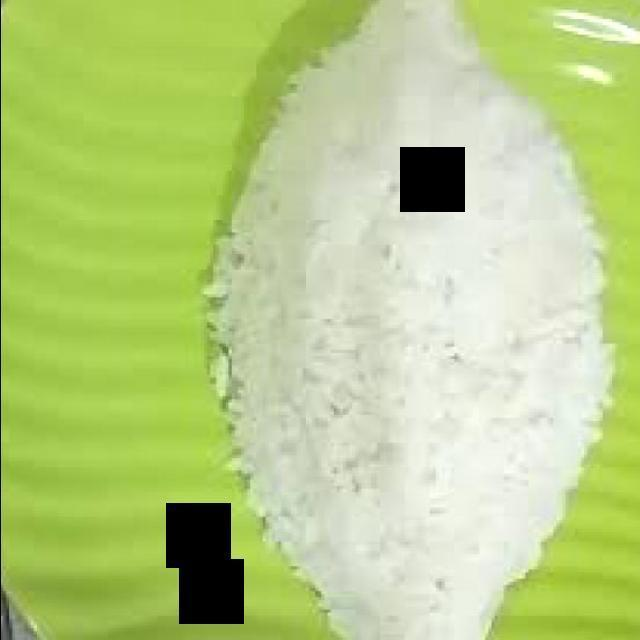Chicken -Chicken Inasal-: (218, 0, 613, 639)
